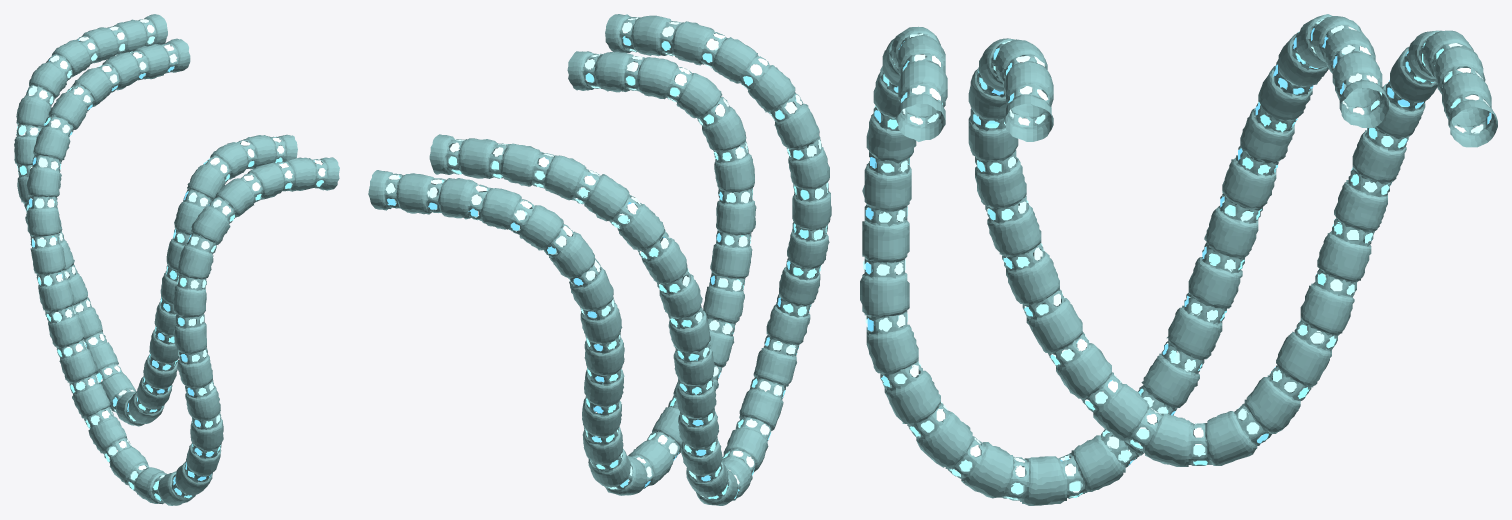
The model's file is compressed_BigCables_2.glb.
The picture shows the model from 3 angles, left to right: view 1: azimuth 30°, elevation 25°; view 2: azimuth 150°, elevation 25°; view 3: azimuth 270°, elevation 25°; orthographic projection. The views are drawn at different scales.
Visible parts, largest first — view 1: PowerCableBig3, PowerCableBig2, PowerCableBig3Lights, PowerCableBig2Lights; view 2: PowerCableBig3, PowerCableBig2, PowerCableBig3Lights, PowerCableBig2Lights; view 3: PowerCableBig3, PowerCableBig2, PowerCableBig3Lights, PowerCableBig2Lights.
Boxes of the visible parts, x1,y1,x2,y2 form: PowerCableBig3: (26,38,339,505); PowerCableBig2: (14,14,297,426); PowerCableBig3Lights: (29,44,325,500); PowerCableBig2Lights: (16,19,283,421); PowerCableBig3: (429,14,831,505); PowerCableBig2: (368,51,756,495); PowerCableBig3Lights: (448,17,828,499); PowerCableBig2Lights: (385,54,752,489); PowerCableBig3: (860,14,1388,505); PowerCableBig2: (968,30,1497,466); PowerCableBig3Lights: (863,19,1381,500); PowerCableBig2Lights: (973,41,1491,465).
Size of the model in its own units: 1.67 by 2.76 by 3.07.
